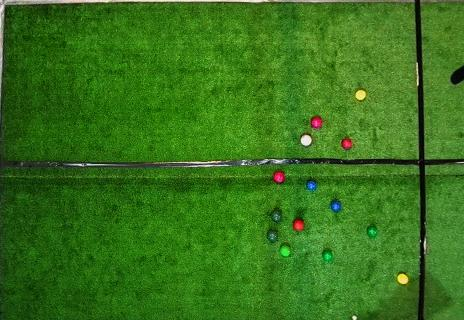blue: (306, 180, 317, 191), (331, 200, 341, 212)
green: (267, 230, 278, 242), (271, 211, 282, 223), (367, 226, 378, 238), (280, 245, 290, 257), (322, 251, 332, 261)
red: (293, 219, 304, 231), (273, 171, 284, 183), (310, 117, 322, 128), (301, 135, 312, 146), (341, 139, 352, 149)
vline: (414, 0, 463, 319), (0, 0, 8, 319)
white: (352, 315, 358, 319)
yellow: (397, 273, 409, 285), (355, 90, 366, 100)
